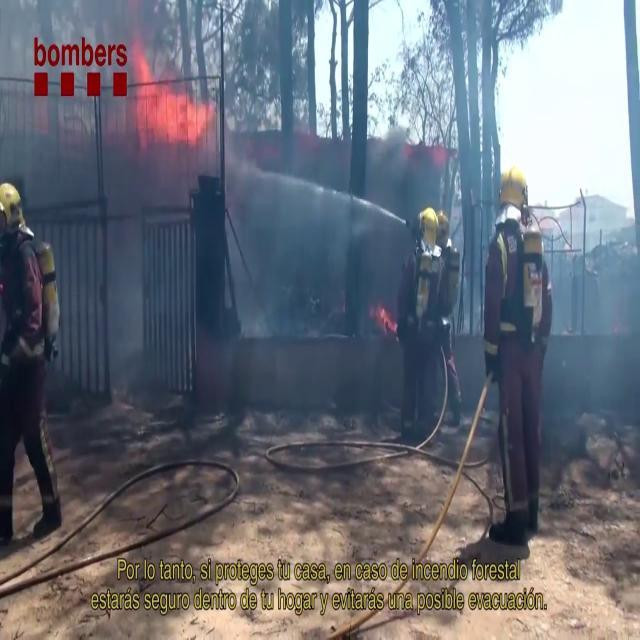Smoke: (544, 202, 640, 473)
